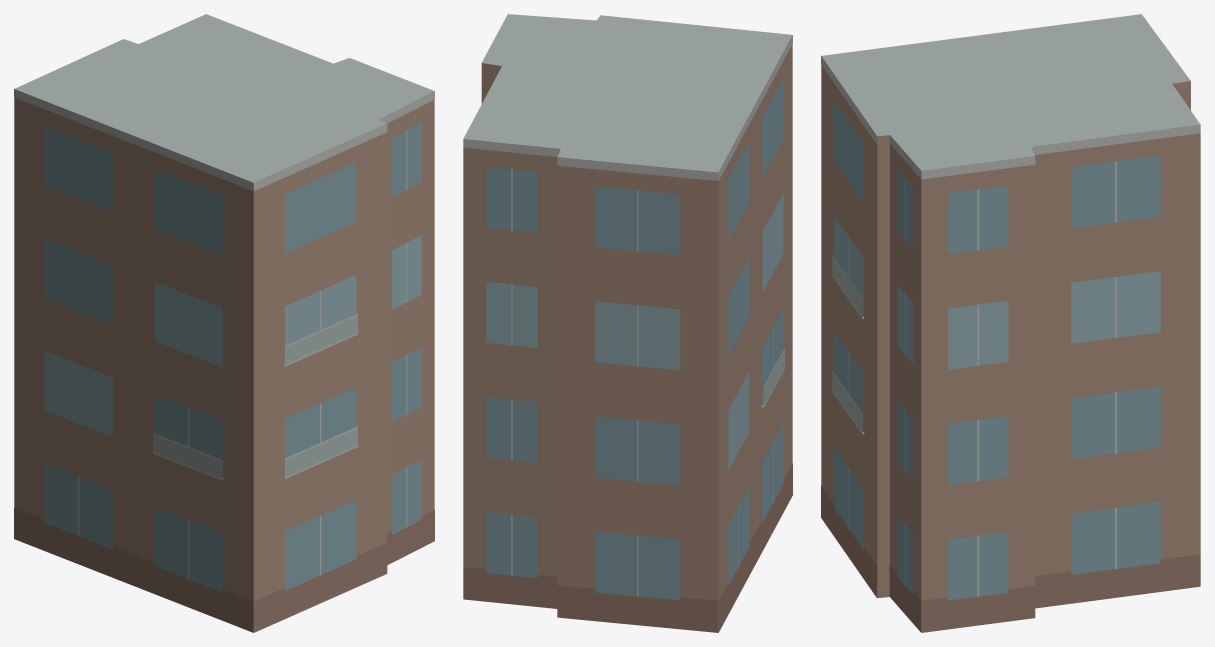
Rendered from survey-upis-32923375.glb.
The picture shows the model from 3 angles, left to right: view 1: azimuth 30°, elevation 25°; view 2: azimuth 150°, elevation 25°; view 3: azimuth 270°, elevation 25°; orthographic projection. The views are drawn at different scales.
Parts seen in each view (by area): view 1: survey-upis-32923375.tmp; view 2: survey-upis-32923375.tmp; view 3: survey-upis-32923375.tmp.
Boxes of the visible parts, box(x1,y1,x2,y2) form: survey-upis-32923375.tmp: box(14, 14, 434, 632); survey-upis-32923375.tmp: box(463, 14, 792, 632); survey-upis-32923375.tmp: box(821, 14, 1200, 632).
Bounding box in the file's own units: 9.55 × 13.1 × 9.76.
